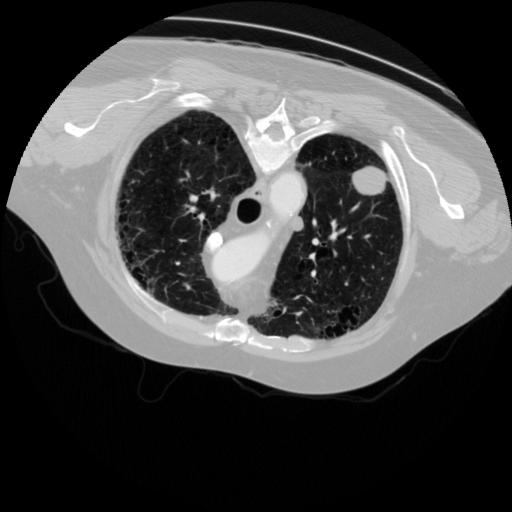nodule: (286, 214, 307, 235)
